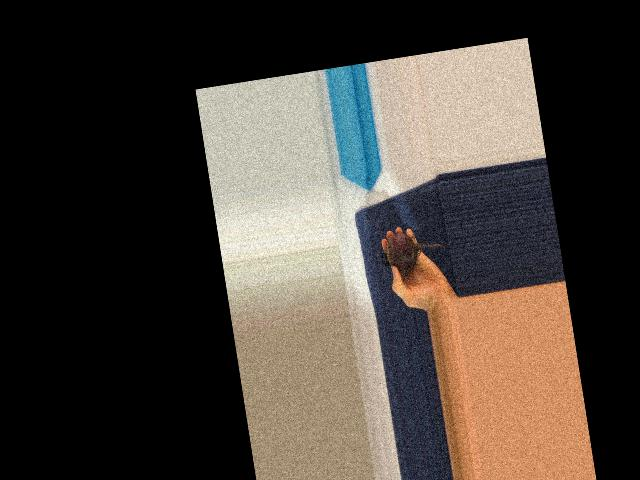beet: (378, 225, 448, 275)
